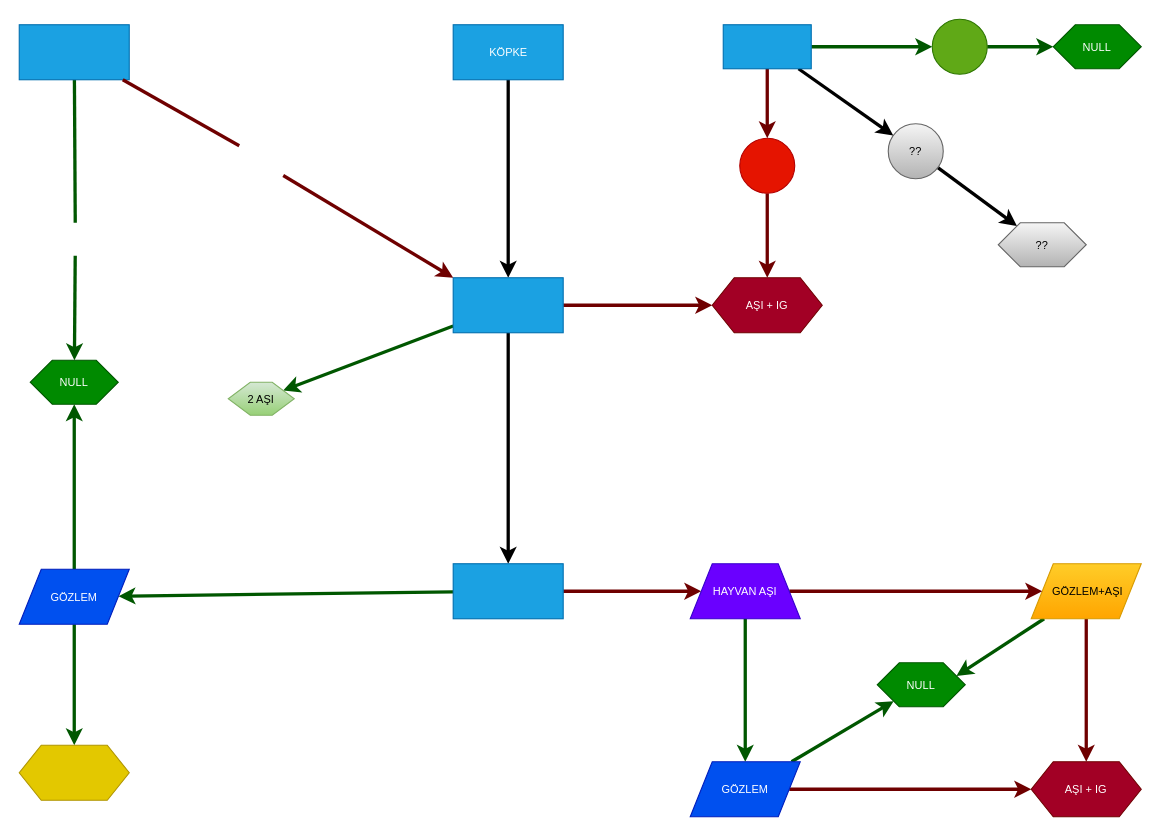
Image size: 1161x836. Some labels were removed from this diagram. Here are the shapes that lost their labels. From the top down, the box of each, then its label:
(18, 24, 129, 80): KEDİ
(722, 24, 811, 69): FARKLI
(931, 18, 987, 74): RİSK -
(739, 137, 795, 193): RİSK
(452, 277, 563, 333): OZEL
(452, 563, 563, 619): YARA
(18, 744, 129, 800): AŞI
